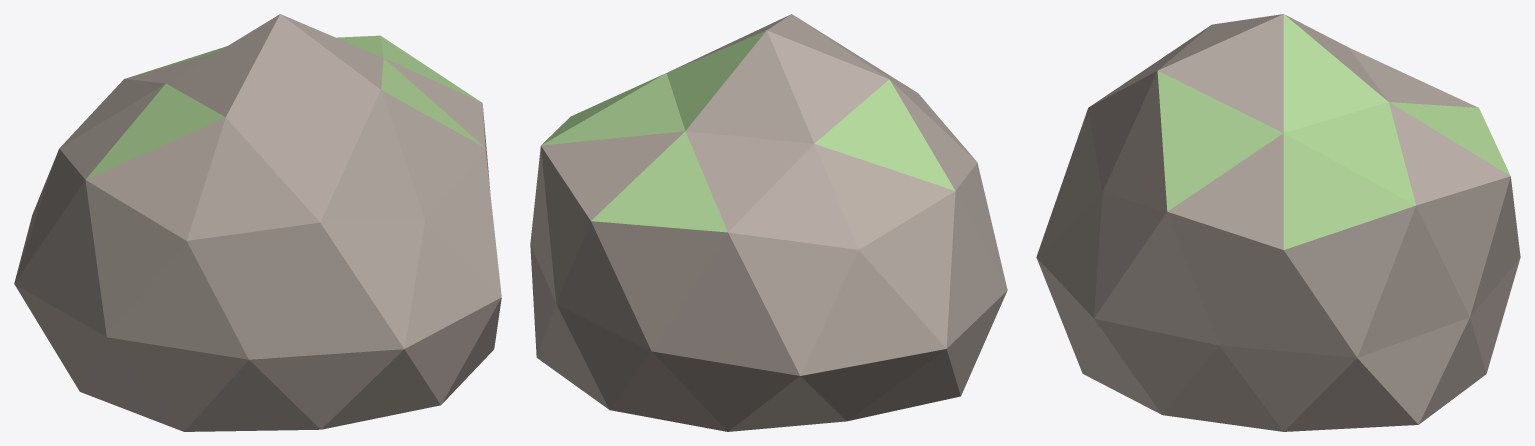
Rendered from VCaveWall_A.fbx.
3 views of the same model, side by side, from view 1: azimuth 30°, elevation 25°; view 2: azimuth 150°, elevation 25°; view 3: azimuth 270°, elevation 25° (orthographic). The views are drawn at different scales.
Visible parts, largest first — view 1: VCaveWall_A; view 2: VCaveWall_A; view 3: VCaveWall_A.
Part boxes in pixels (x1,y1,x2,y2): VCaveWall_A: (14, 14, 501, 431); VCaveWall_A: (530, 14, 1007, 431); VCaveWall_A: (1036, 14, 1520, 431).
Size of the model in its own units: 1.96 by 1.51 by 1.9.
